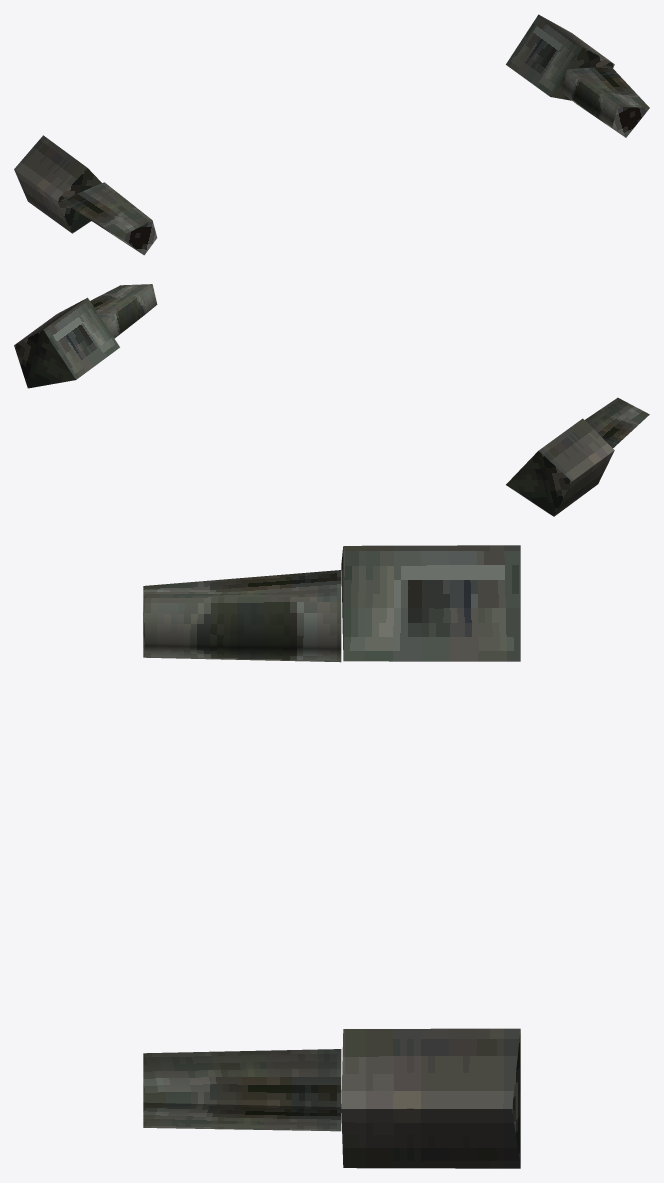
The model's file is black_sun_fighter_heavy_weapon2_s01_l3.fbx.
3 views of the same model, one above another, from view 1: azimuth 30°, elevation 25°; view 2: azimuth 150°, elevation 25°; view 3: azimuth 270°, elevation 25° (orthographic). The views are drawn at different scales.
Visible parts, largest first — view 1: mesh_node; view 2: mesh_node; view 3: mesh_node.
Part boxes in pixels (box(x1,y1,x2,y2)): mesh_node: box(14, 14, 649, 255); mesh_node: box(14, 284, 649, 516); mesh_node: box(143, 545, 520, 1168).
Size of the model in its own units: 5.37 by 0.5743 by 1.57.
1 material, 1 textured.
